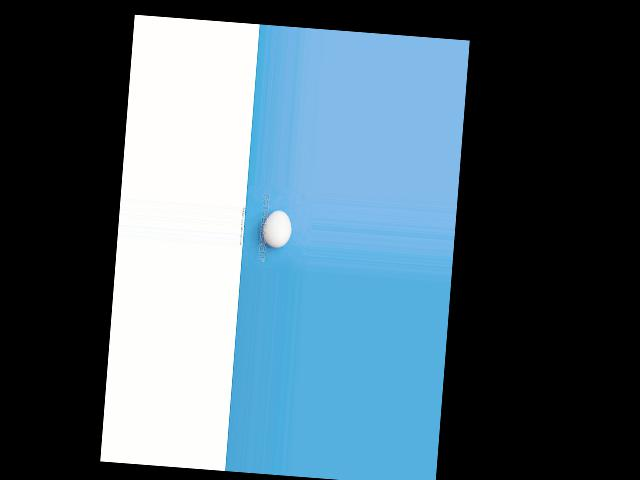egg: (260, 209, 292, 248)
